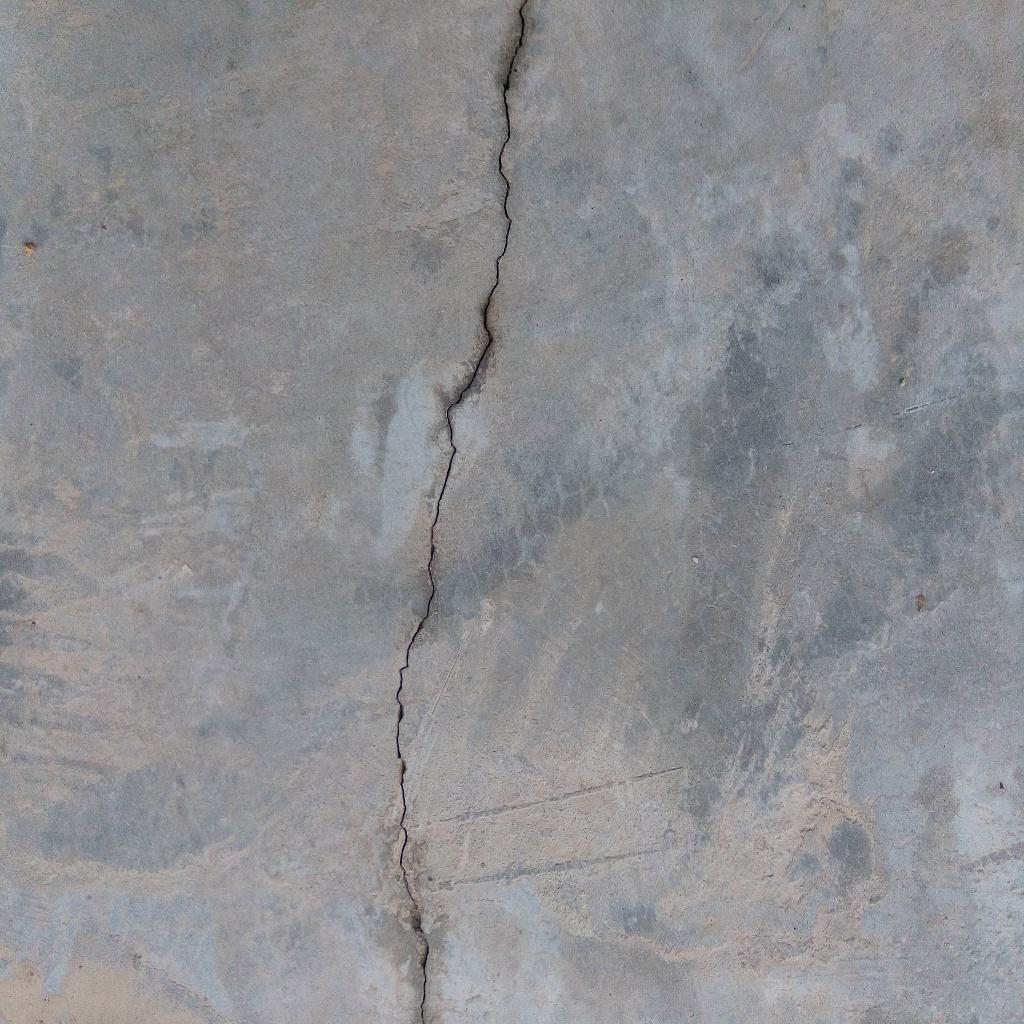Crack: (394, 1, 528, 1024)
